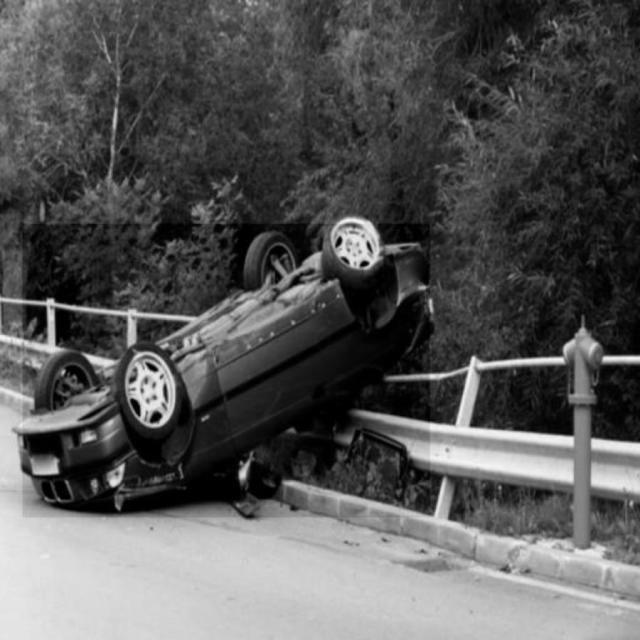accident: (22, 224, 430, 518)
